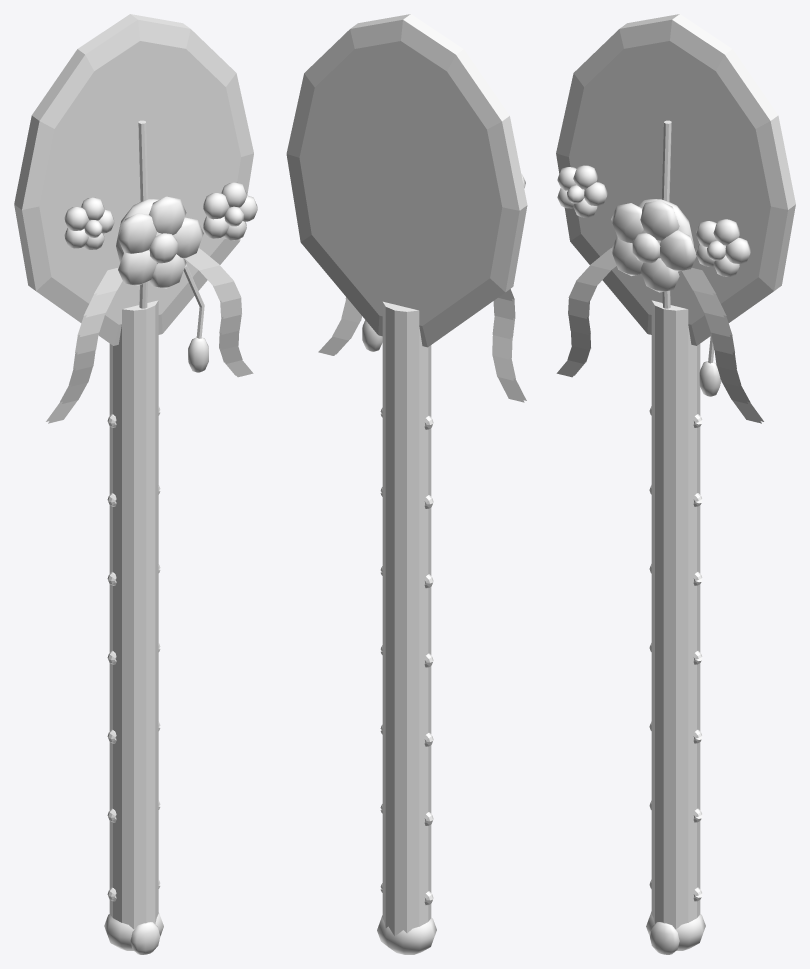
File: shovel.obj
The picture shows the model from 3 angles, left to right: view 1: azimuth 30°, elevation 25°; view 2: azimuth 150°, elevation 25°; view 3: azimuth 330°, elevation 25°; orthographic projection.
Bounding box in the file's own units: 0.275 × 1.05 × 0.0964.
